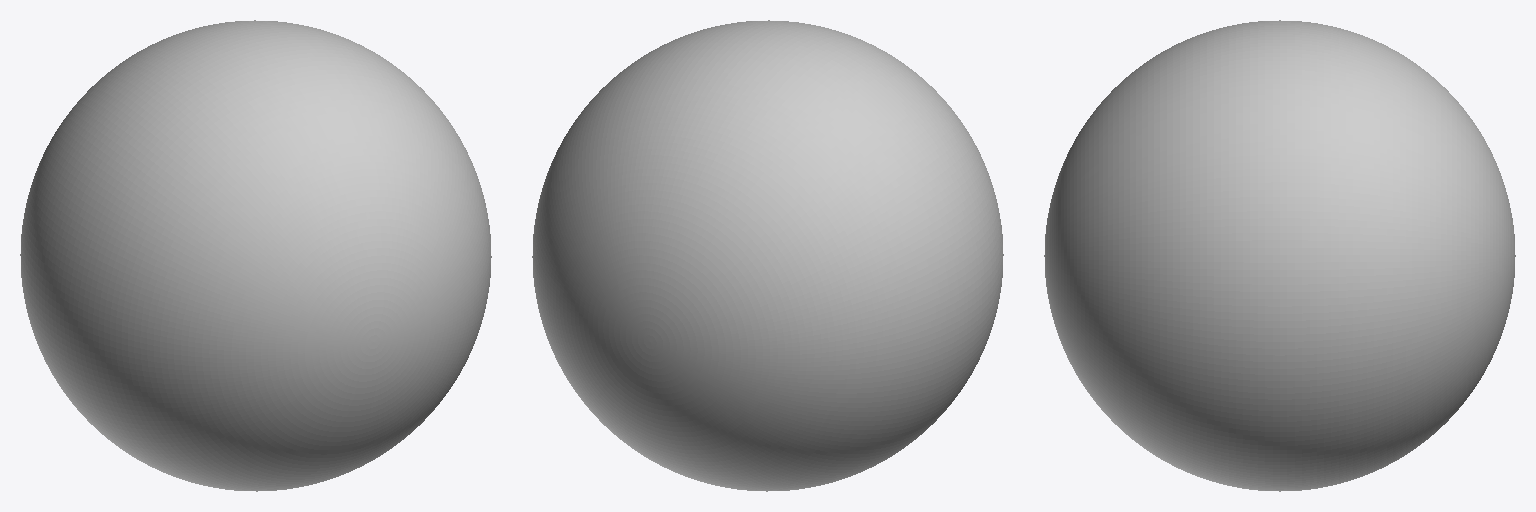
Rendered from SphereHighPoly.obj.
The picture shows the model from 3 angles: view 1: azimuth 30°, elevation 25°; view 2: azimuth 150°, elevation 25°; view 3: azimuth 270°, elevation 25°; orthographic projection.
Visible parts, largest first — view 1: Sphere001; view 2: Sphere001; view 3: Sphere001.
Boxes of the visible parts, <box> form: Sphere001: <box>20,20,491,491</box>; Sphere001: <box>532,20,1003,491</box>; Sphere001: <box>1044,20,1515,491</box>.
Size of the model in its own units: 96 by 96 by 96.